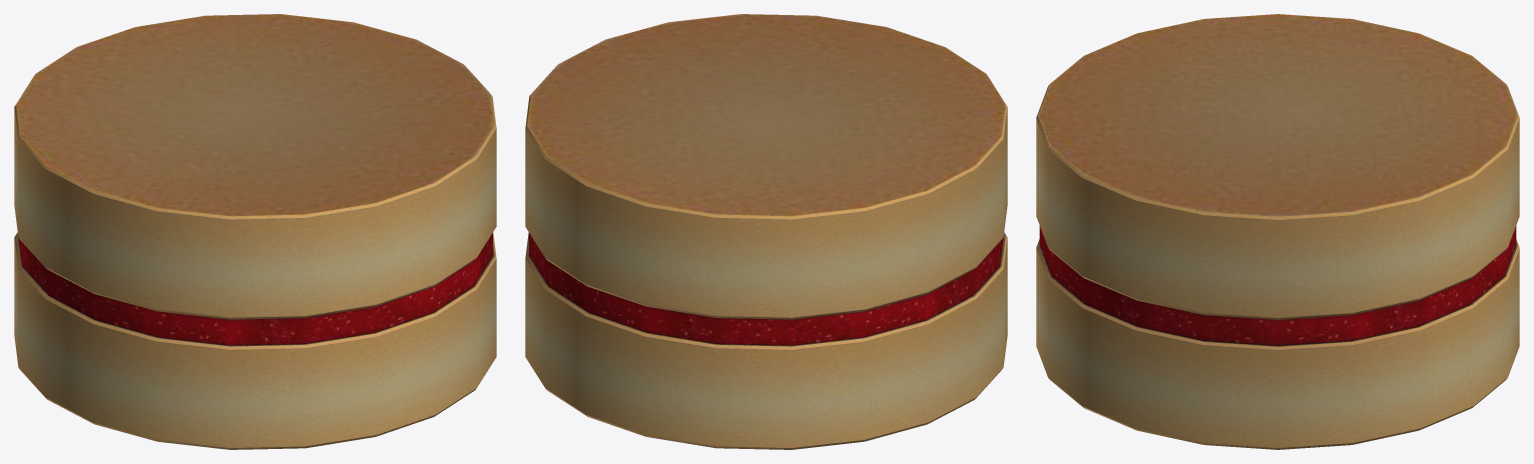
File: jamCake.glb
The picture shows the model from 3 angles, left to right: view 1: azimuth 30°, elevation 25°; view 2: azimuth 150°, elevation 25°; view 3: azimuth 270°, elevation 25°; orthographic projection.
Parts seen in each view (by area): view 1: JamCakeLayer, JamCakeBottomLayer, JamCakeFilling; view 2: JamCakeLayer, JamCakeBottomLayer, JamCakeFilling; view 3: JamCakeLayer, JamCakeBottomLayer, JamCakeFilling.
Boxes of the visible parts, x1,y1,x2,y2 form: JamCakeLayer: [14, 14, 496, 319]; JamCakeBottomLayer: [14, 232, 496, 449]; JamCakeFilling: [18, 233, 492, 345]; JamCakeLayer: [525, 14, 1007, 319]; JamCakeBottomLayer: [525, 232, 1007, 449]; JamCakeFilling: [529, 233, 1003, 345]; JamCakeLayer: [1036, 14, 1519, 319]; JamCakeBottomLayer: [1036, 239, 1519, 449]; JamCakeFilling: [1039, 226, 1516, 345].
Size of the model in its own units: 0.2655 by 0.1412 by 0.2655.
1 material, 1 textured.
